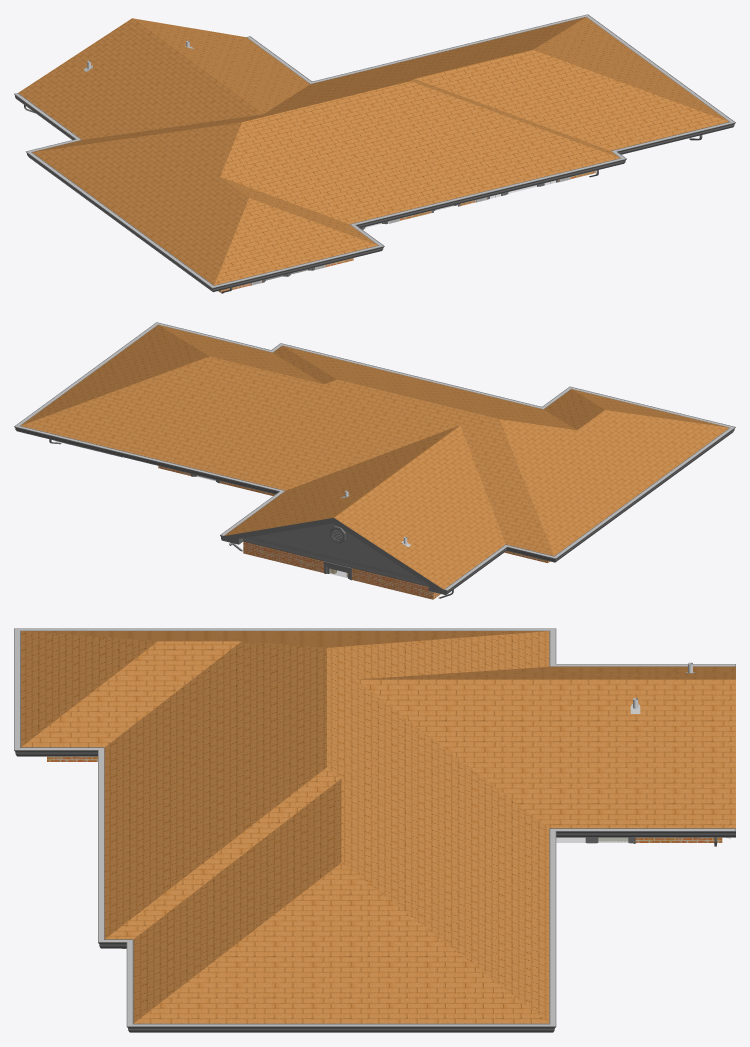
The model's file is casa4.glb.
3 views of the same model, one above another, from view 1: azimuth 30°, elevation 25°; view 2: azimuth 150°, elevation 25°; view 3: azimuth 270°, elevation 25° (orthographic). The views are drawn at different scales.
Parts seen in each view (by area): view 1: object 1; view 2: object 1; view 3: object 1.
Part boxes in pixels (x1,y1,x2,y2): object 1: (14, 14, 735, 293); object 1: (14, 322, 735, 599); object 1: (14, 628, 735, 1032).
Bounding box in the file's own units: 20.13 × 2.46 × 15.42.
50 materials, 18 textured.
